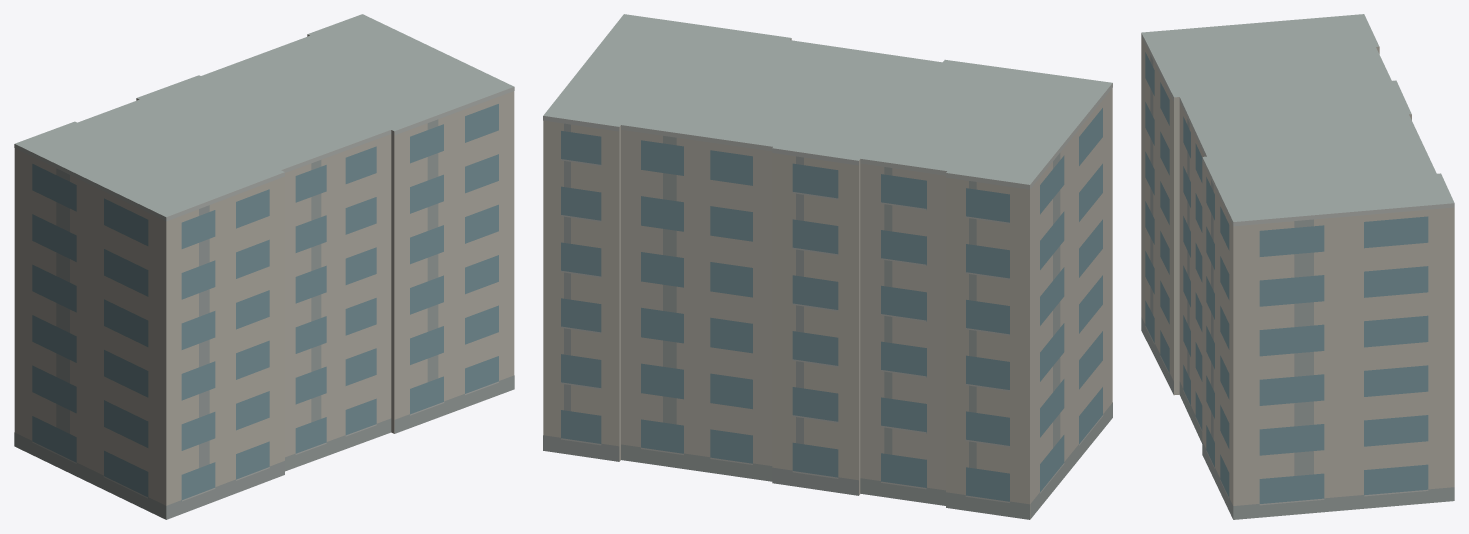
Rendered from survey-upis-32960447.glb.
3 renders of one model, left to right at view 1: azimuth 30°, elevation 25°; view 2: azimuth 150°, elevation 25°; view 3: azimuth 270°, elevation 25°, orthographic. The views are drawn at different scales.
Parts seen in each view (by area): view 1: survey-upis-32960447.tmp; view 2: survey-upis-32960447.tmp; view 3: survey-upis-32960447.tmp.
Part boxes in pixels (x1,y1,x2,y2): survey-upis-32960447.tmp: [14, 14, 514, 519]; survey-upis-32960447.tmp: [543, 14, 1112, 519]; survey-upis-32960447.tmp: [1141, 14, 1454, 519].
Size of the model in its own units: 25.94 by 17.3 by 16.51.
